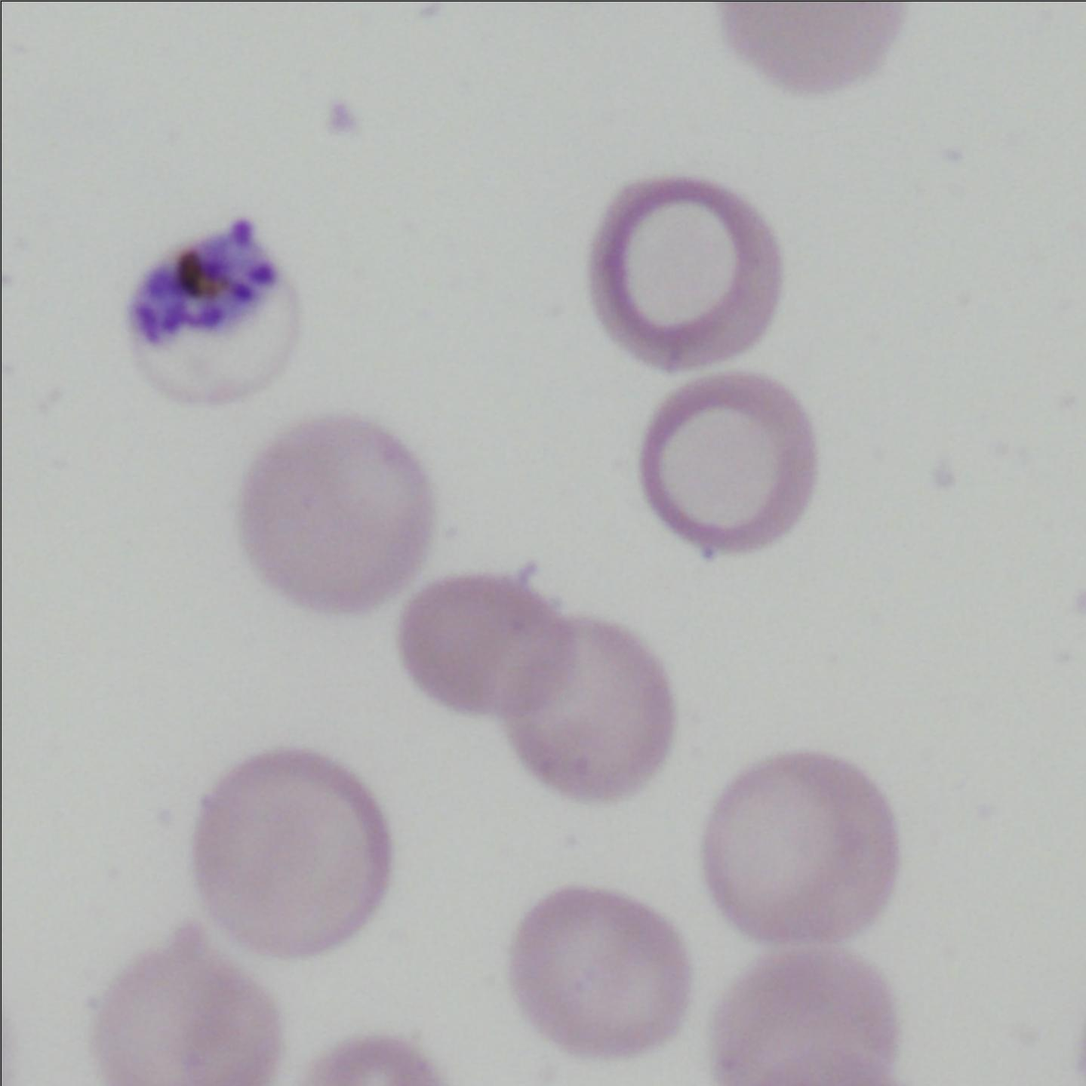Infected: (131, 215, 307, 412)
Uninfected: (184, 756, 401, 956), (236, 418, 426, 620), (704, 750, 904, 941), (589, 177, 780, 375), (636, 371, 817, 566), (503, 884, 691, 1062), (511, 610, 671, 803), (91, 932, 280, 1086), (714, 934, 886, 1086), (397, 574, 577, 714)
